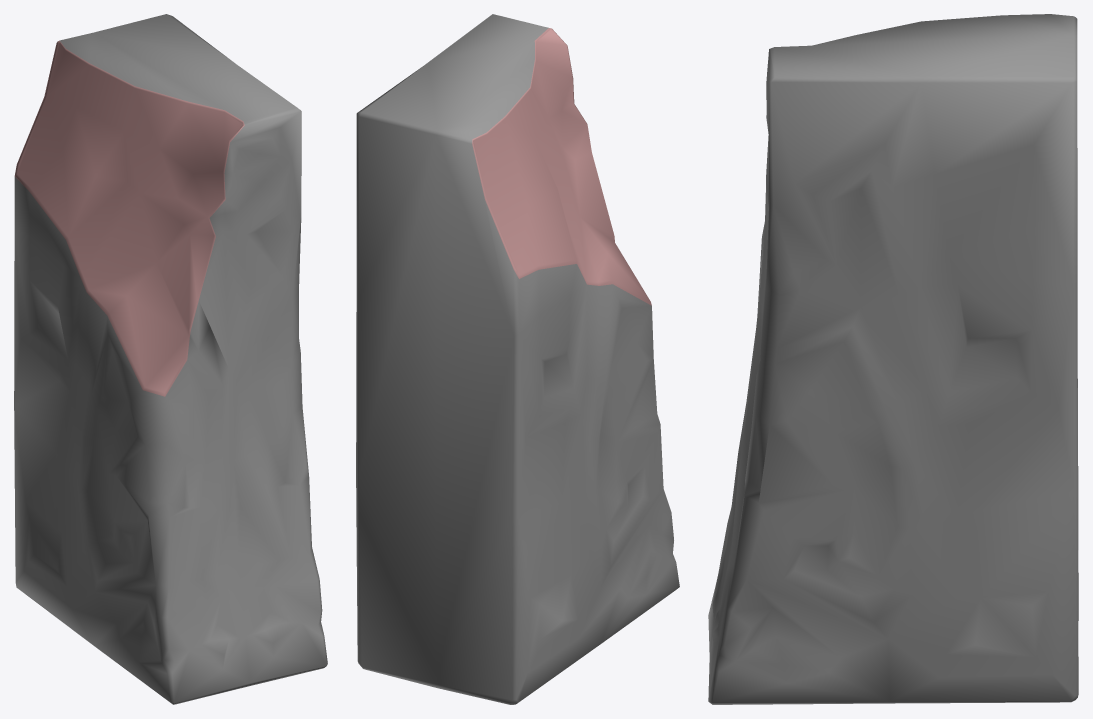
The model's file is RuineBroken12.FBX.
The picture shows the model from 3 angles, left to right: view 1: azimuth 30°, elevation 25°; view 2: azimuth 150°, elevation 25°; view 3: azimuth 270°, elevation 25°; orthographic projection. The views are drawn at different scales.
Parts seen in each view (by area): view 1: Object002; view 2: Object002; view 3: Object002.
Boxes of the visible parts, <box> form: Object002: <box>14,14,327,704</box>; Object002: <box>356,14,679,704</box>; Object002: <box>708,14,1078,704</box>.
Bounding box in the file's own units: 81.71 × 257 × 137.
